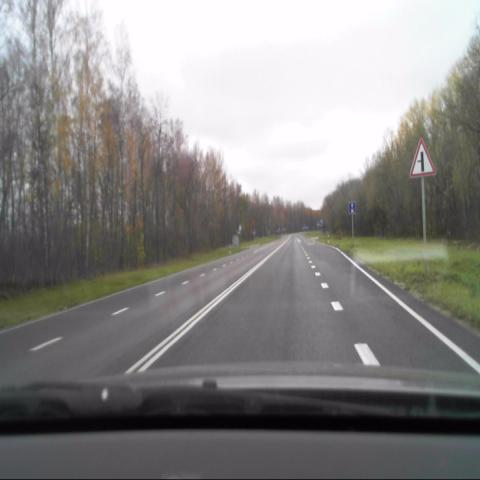2_3_3: (408, 137, 432, 180)
5_14: (348, 200, 356, 213)
